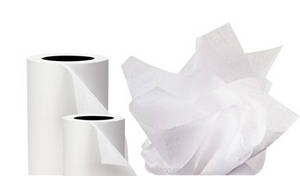Tissue: (122, 21, 300, 176)
